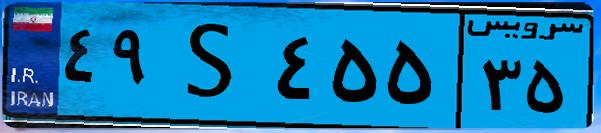3: (475, 38, 525, 113)
4: (270, 28, 330, 110), (57, 26, 110, 100)
5: (385, 28, 445, 110), (330, 28, 385, 110), (525, 38, 570, 115)
9: (110, 28, 158, 98)
S: (158, 12, 270, 120)
